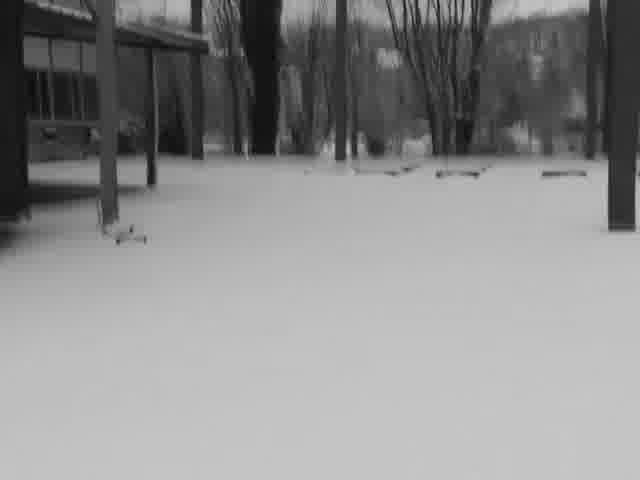drone: (94, 214, 151, 249)
